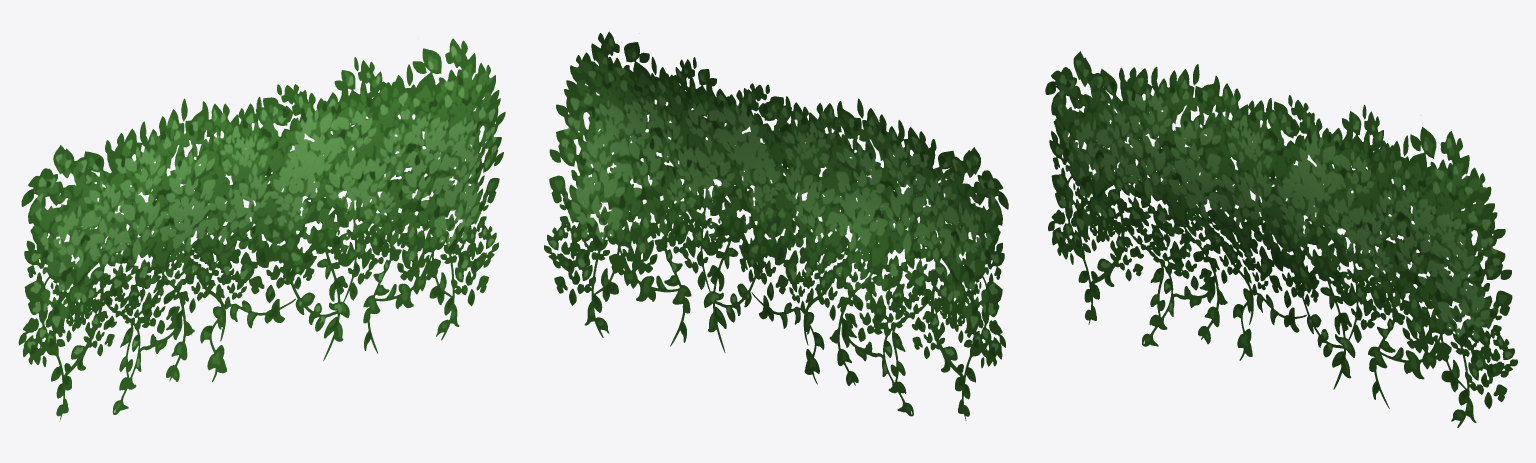
The model's file is E_Arriba.fbx.
3 views of the same model, side by side, from view 1: azimuth 30°, elevation 25°; view 2: azimuth 150°, elevation 25°; view 3: azimuth 330°, elevation 25° (orthographic). The views are drawn at different scales.
Parts seen in each view (by area): view 1: E_Arriba; view 2: E_Arriba; view 3: E_Arriba.
Part boxes in pixels (x1=…): E_Arriba: x1=18, y1=38, x2=505, y2=421; E_Arriba: x1=544, y1=31, x2=1008, y2=420; E_Arriba: x1=1045, y1=51, x2=1517, y2=427.
Bounding box in the file's own units: 1101 × 700 × 87.36.
1 material, 1 textured.
